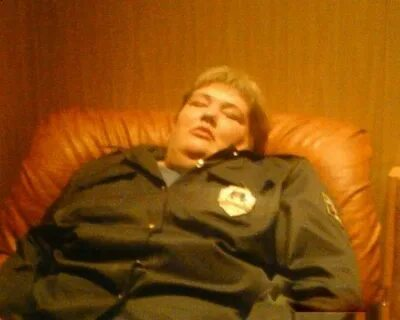sleep: (1, 65, 362, 319)
